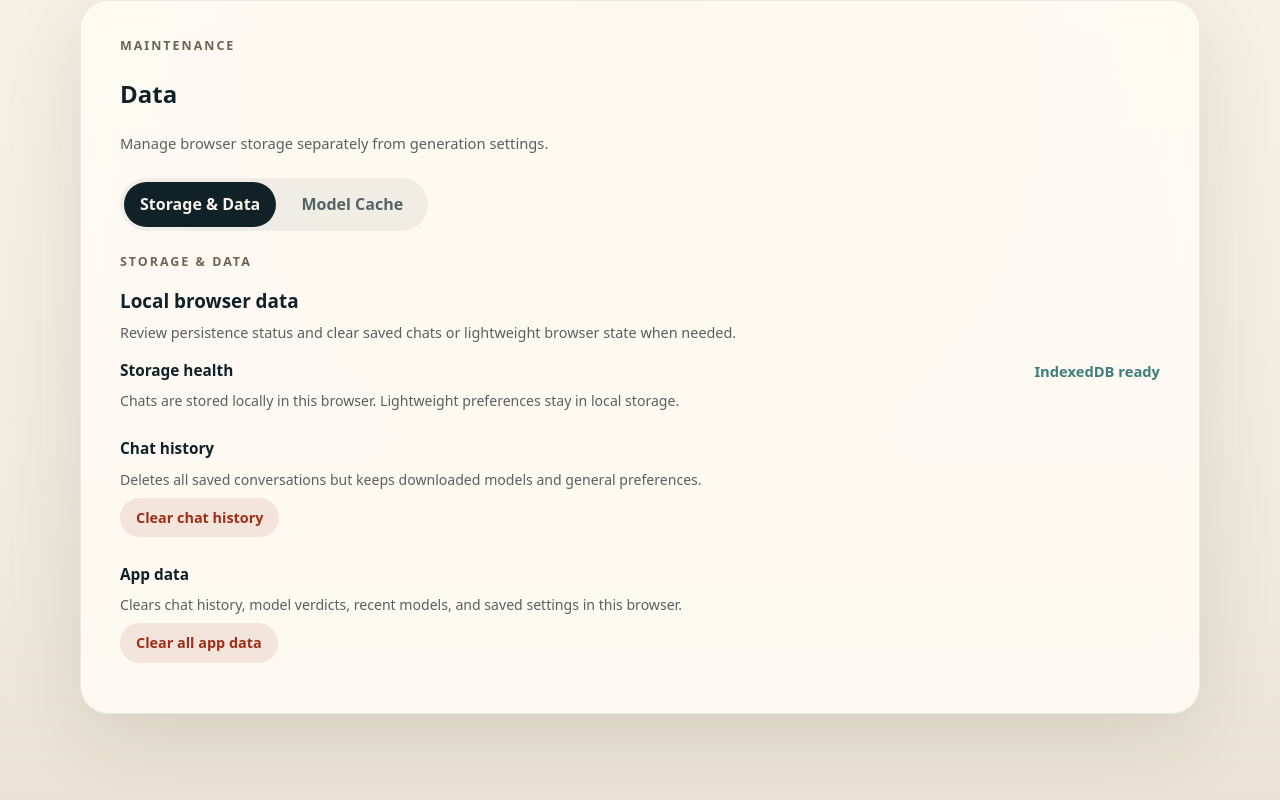
Settings surfaces › switches between storage and model cache tabs
Expected: the heading "Local browser data" is shown, left=120, top=288, right=298, bottom=314
Click the tab "Model Cache": x=352, y=204 left=280, top=182, right=424, bottom=227
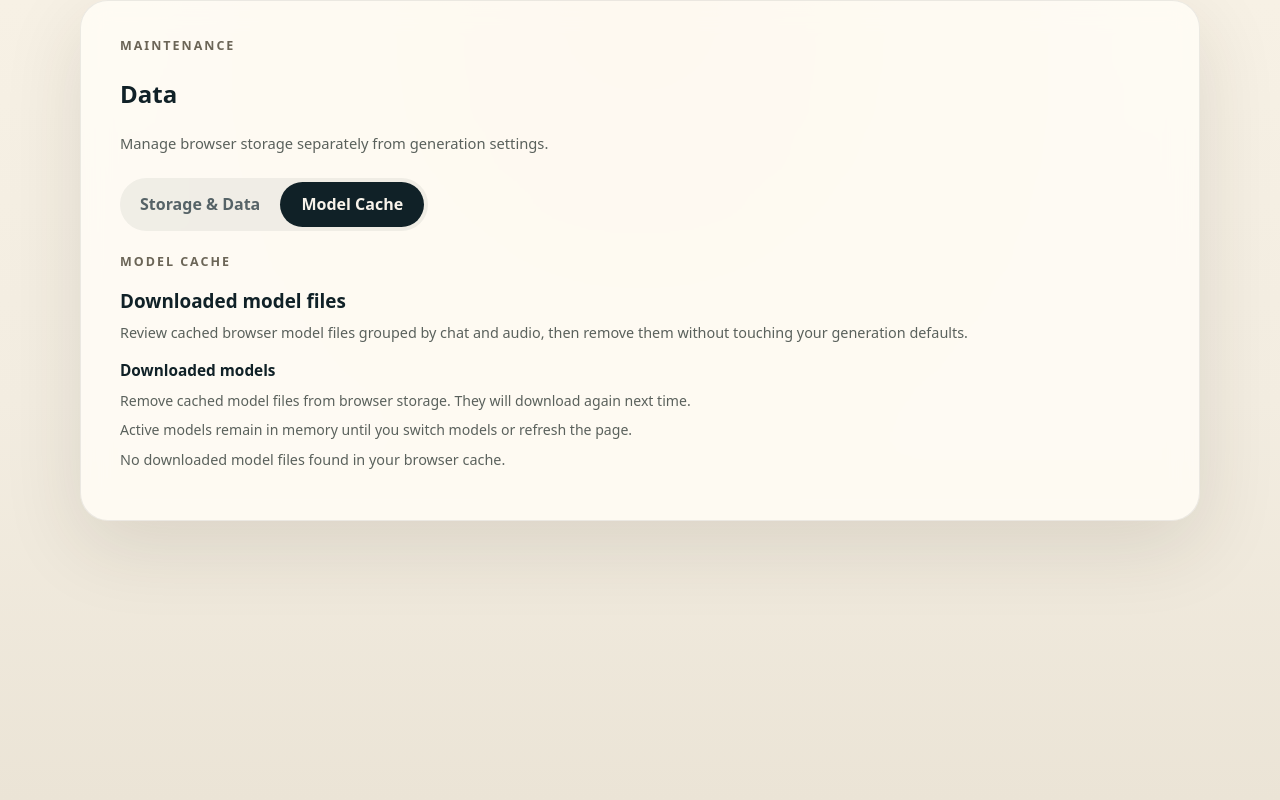
Result: the heading "Downloaded model files" is shown at left=120, top=288, right=346, bottom=314
